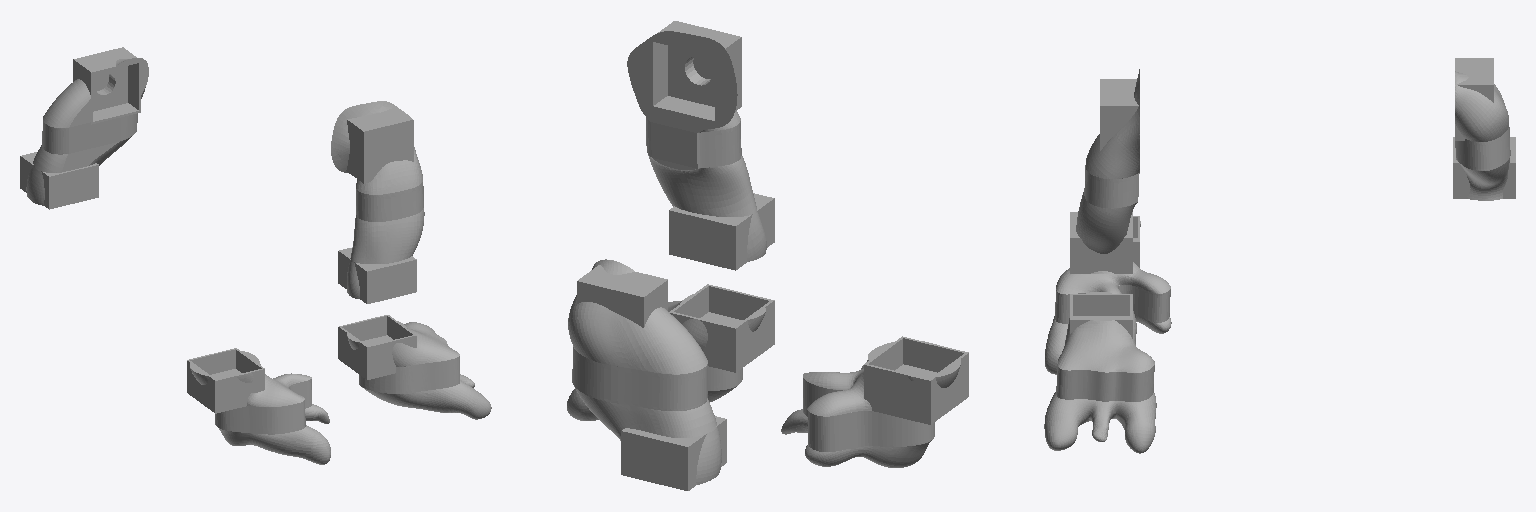
URDF robot description (FrogBot4_top-FrogBot4-x-5_bottom-FrogBot4-x-5):
<?xml version="1.0" ?>
<robot name="FrogBot4_top-FrogBot4-x-5_bottom-FrogBot4-x-5">

<material name="pla_5_percent_infill">
  <color rgba="0.700 0.700 0.700 1.000"/>
</material>

<link name="base_link">
  <inertial>
    <origin xyz="0 0 0" rpy="0 0 0"/>
    <mass value="1.4608203761339802"/>
    <inertia ixx="0.004960344011103216" iyy="0.010259632804669792" izz="0.010457868746855736" ixy="4.519338143052902e-05" iyz="5.808312742508464e-05" ixz="-0.0011937618975742643"/>
  </inertial>
  <visual>
    <origin xyz="0 0 0" rpy="0 0 0"/>
    <geometry>
      <mesh filename="simple_meshes/base_link.stl" scale="0.001 0.001 0.001"/>
    </geometry>
    <material name="pla_5_percent_infill"/>
  </visual>
  <collision>
    <origin xyz="0 0 0" rpy="0 0 0"/>
    <geometry>
      <mesh filename="simple_meshes/base_link.stl" scale="0.001 0.001 0.001"/>
    </geometry>
  </collision>
</link>

<link name="body_1_0_1">
  <inertial>
    <origin xyz="-0.039935 -0.102508 -0.020563" rpy="0 0 0"/>
    <mass value="0.0797575690457002"/>
    <inertia ixx="9.596908685615075e-05" iyy="0.00011091879741799903" izz="3.522125293106931e-05" ixy="9.601431572328037e-07" iyz="2.5762300177321396e-06" ixz="-1.4283803855344253e-05"/>
  </inertial>
  <visual>
    <origin xyz="-0.039935 -0.102508 -0.020563" rpy="0 0 0"/>
    <geometry>
      <mesh filename="simple_meshes/body_1_0_1.stl" scale="0.001 0.001 0.001"/>
    </geometry>
    <material name="pla_5_percent_infill"/>
  </visual>
  <collision>
    <origin xyz="-0.039935 -0.102508 -0.020563" rpy="0 0 0"/>
    <geometry>
      <mesh filename="simple_meshes/body_1_0_1.stl" scale="0.001 0.001 0.001"/>
    </geometry>
  </collision>
</link>

<link name="body_1_1_1">
  <inertial>
    <origin xyz="0.084829 -0.102508 0.010182" rpy="0 0 0"/>
    <mass value="0.09086982590961837"/>
    <inertia ixx="7.374602697779453e-05" iyy="0.00011966949240370243" izz="6.908560886746077e-05" ixy="-1.809481770038545e-06" iyz="1.4409274726226418e-06" ixz="-2.5080055862619513e-05"/>
  </inertial>
  <visual>
    <origin xyz="0.084829 -0.102508 0.010182" rpy="0 0 0"/>
    <geometry>
      <mesh filename="simple_meshes/body_1_1_1.stl" scale="0.001 0.001 0.001"/>
    </geometry>
    <material name="pla_5_percent_infill"/>
  </visual>
  <collision>
    <origin xyz="0.084829 -0.102508 0.010182" rpy="0 0 0"/>
    <geometry>
      <mesh filename="simple_meshes/body_1_1_1.stl" scale="0.001 0.001 0.001"/>
    </geometry>
  </collision>
</link>

<link name="body_1_2_1">
  <inertial>
    <origin xyz="-0.032973 0.102508 -0.03352" rpy="0 0 0"/>
    <mass value="0.08598380183621689"/>
    <inertia ixx="0.00011939814485395126" iyy="0.00013314867563339968" izz="3.85695146195126e-05" ixy="-2.5313666252345184e-06" iyz="-1.1852535218708458e-05" ixz="-1.213934499738814e-05"/>
  </inertial>
  <visual>
    <origin xyz="-0.032973 0.102508 -0.03352" rpy="0 0 0"/>
    <geometry>
      <mesh filename="simple_meshes/body_1_2_1.stl" scale="0.001 0.001 0.001"/>
    </geometry>
    <material name="pla_5_percent_infill"/>
  </visual>
  <collision>
    <origin xyz="-0.032973 0.102508 -0.03352" rpy="0 0 0"/>
    <geometry>
      <mesh filename="simple_meshes/body_1_2_1.stl" scale="0.001 0.001 0.001"/>
    </geometry>
  </collision>
</link>

<link name="body_1_3_1">
  <inertial>
    <origin xyz="0.075405 0.102508 -0.000907" rpy="0 0 0"/>
    <mass value="0.0967763922690638"/>
    <inertia ixx="8.135179800362923e-05" iyy="0.00012828418050823292" izz="7.223065863361851e-05" ixy="2.1558488701709823e-07" iyz="-1.4791244760987304e-06" ixz="-2.498597966897739e-05"/>
  </inertial>
  <visual>
    <origin xyz="0.075405 0.102508 -0.000907" rpy="0 0 0"/>
    <geometry>
      <mesh filename="simple_meshes/body_1_3_1.stl" scale="0.001 0.001 0.001"/>
    </geometry>
    <material name="pla_5_percent_infill"/>
  </visual>
  <collision>
    <origin xyz="0.075405 0.102508 -0.000907" rpy="0 0 0"/>
    <geometry>
      <mesh filename="simple_meshes/body_1_3_1.stl" scale="0.001 0.001 0.001"/>
    </geometry>
  </collision>
</link>

<link name="body_2_0_1">
  <inertial>
    <origin xyz="-0.025656 -0.145015 0.110436" rpy="0 0 0"/>
    <mass value="0.09993784779433719"/>
    <inertia ixx="7.343545432933214e-05" iyy="9.46708259906429e-05" izz="0.00010223000765041809" ixy="-4.971902130602741e-07" iyz="8.242547604986848e-07" ixz="2.1220454857030693e-05"/>
  </inertial>
  <visual>
    <origin xyz="-0.025656 -0.145015 0.110436" rpy="0 0 0"/>
    <geometry>
      <mesh filename="simple_meshes/body_2_0_1.stl" scale="0.001 0.001 0.001"/>
    </geometry>
    <material name="pla_5_percent_infill"/>
  </visual>
  <collision>
    <origin xyz="-0.025656 -0.145015 0.110436" rpy="0 0 0"/>
    <geometry>
      <mesh filename="simple_meshes/body_2_0_1.stl" scale="0.001 0.001 0.001"/>
    </geometry>
  </collision>
</link>

<link name="body_2_1_1">
  <inertial>
    <origin xyz="0.114857 -0.145661 0.110438" rpy="0 0 0"/>
    <mass value="0.08581514200507374"/>
    <inertia ixx="5.2937503998195905e-05" iyy="8.568402331422201e-05" izz="7.328120701207341e-05" ixy="-3.690929836665984e-06" iyz="5.026785037510247e-06" ixz="2.2002568851585544e-05"/>
  </inertial>
  <visual>
    <origin xyz="0.114857 -0.145661 0.110438" rpy="0 0 0"/>
    <geometry>
      <mesh filename="simple_meshes/body_2_1_1.stl" scale="0.001 0.001 0.001"/>
    </geometry>
    <material name="pla_5_percent_infill"/>
  </visual>
  <collision>
    <origin xyz="0.114857 -0.145661 0.110438" rpy="0 0 0"/>
    <geometry>
      <mesh filename="simple_meshes/body_2_1_1.stl" scale="0.001 0.001 0.001"/>
    </geometry>
  </collision>
</link>

<link name="body_2_2_1">
  <inertial>
    <origin xyz="-0.022601 0.152053 0.110436" rpy="0 0 0"/>
    <mass value="0.1086195022886029"/>
    <inertia ixx="7.921089844994088e-05" iyy="0.0001038005271223226" izz="0.00010988599131268265" ixy="-2.922128324624293e-06" iyz="-6.077753158975456e-07" ixz="2.3352375004814883e-05"/>
  </inertial>
  <visual>
    <origin xyz="-0.022601 0.152053 0.110436" rpy="0 0 0"/>
    <geometry>
      <mesh filename="simple_meshes/body_2_2_1.stl" scale="0.001 0.001 0.001"/>
    </geometry>
    <material name="pla_5_percent_infill"/>
  </visual>
  <collision>
    <origin xyz="-0.022601 0.152053 0.110436" rpy="0 0 0"/>
    <geometry>
      <mesh filename="simple_meshes/body_2_2_1.stl" scale="0.001 0.001 0.001"/>
    </geometry>
  </collision>
</link>

<link name="body_2_3_1">
  <inertial>
    <origin xyz="0.12145 0.146005 0.110436" rpy="0 0 0"/>
    <mass value="0.08886401518465152"/>
    <inertia ixx="6.726090625574967e-05" iyy="7.547460987963493e-05" izz="8.525531727069605e-05" ixy="6.368873074878104e-06" iyz="-8.898108197705808e-06" ixz="1.5173487437103103e-05"/>
  </inertial>
  <visual>
    <origin xyz="0.12145 0.146005 0.110436" rpy="0 0 0"/>
    <geometry>
      <mesh filename="simple_meshes/body_2_3_1.stl" scale="0.001 0.001 0.001"/>
    </geometry>
    <material name="pla_5_percent_infill"/>
  </visual>
  <collision>
    <origin xyz="0.12145 0.146005 0.110436" rpy="0 0 0"/>
    <geometry>
      <mesh filename="simple_meshes/body_2_3_1.stl" scale="0.001 0.001 0.001"/>
    </geometry>
  </collision>
</link>

<joint name="joint_1_0" type="revolute">
  <origin xyz="0.039935 0.102508 0.020563" rpy="0 0 0"/>
  <parent link="base_link"/>
  <child link="body_1_0_1"/>
  <axis xyz="1.0 0.0 0.0"/>
  <limit upper="1.2" lower="-1.2" effort="3.8" velocity="5.4"/>
</joint>
<transmission name="joint_1_0_tran">
  <type>transmission_interface/SimpleTransmission</type>
  <joint name="joint_1_0">
    <hardwareInterface>PositionJointInterface</hardwareInterface>
  </joint>
  <actuator name="joint_1_0_actr">
    <hardwareInterface>PositionJointInterface</hardwareInterface>
    <mechanicalReduction>1</mechanicalReduction>
  </actuator>
</transmission>

<joint name="joint_1_1" type="revolute">
  <origin xyz="-0.084829 0.102508 -0.010182" rpy="0 0 0"/>
  <parent link="base_link"/>
  <child link="body_1_1_1"/>
  <axis xyz="1.0 0.0 0.0"/>
  <limit upper="1.2" lower="-1.2" effort="3.8" velocity="5.4"/>
</joint>
<transmission name="joint_1_1_tran">
  <type>transmission_interface/SimpleTransmission</type>
  <joint name="joint_1_1">
    <hardwareInterface>PositionJointInterface</hardwareInterface>
  </joint>
  <actuator name="joint_1_1_actr">
    <hardwareInterface>PositionJointInterface</hardwareInterface>
    <mechanicalReduction>1</mechanicalReduction>
  </actuator>
</transmission>

<joint name="joint_1_2" type="revolute">
  <origin xyz="0.032973 -0.102508 0.03352" rpy="0 0 0"/>
  <parent link="base_link"/>
  <child link="body_1_2_1"/>
  <axis xyz="1.0 0.0 0.0"/>
  <limit upper="1.2" lower="-1.2" effort="3.8" velocity="5.4"/>
</joint>
<transmission name="joint_1_2_tran">
  <type>transmission_interface/SimpleTransmission</type>
  <joint name="joint_1_2">
    <hardwareInterface>PositionJointInterface</hardwareInterface>
  </joint>
  <actuator name="joint_1_2_actr">
    <hardwareInterface>PositionJointInterface</hardwareInterface>
    <mechanicalReduction>1</mechanicalReduction>
  </actuator>
</transmission>

<joint name="joint_1_3" type="revolute">
  <origin xyz="-0.075405 -0.102508 0.000907" rpy="0 0 0"/>
  <parent link="base_link"/>
  <child link="body_1_3_1"/>
  <axis xyz="1.0 0.0 0.0"/>
  <limit upper="1.2" lower="-1.2" effort="3.8" velocity="5.4"/>
</joint>
<transmission name="joint_1_3_tran">
  <type>transmission_interface/SimpleTransmission</type>
  <joint name="joint_1_3">
    <hardwareInterface>PositionJointInterface</hardwareInterface>
  </joint>
  <actuator name="joint_1_3_actr">
    <hardwareInterface>PositionJointInterface</hardwareInterface>
    <mechanicalReduction>1</mechanicalReduction>
  </actuator>
</transmission>

<joint name="joint_2_0" type="revolute">
  <origin xyz="-0.014279 0.042507 -0.130999" rpy="0 0 0"/>
  <parent link="body_1_0_1"/>
  <child link="body_2_0_1"/>
  <axis xyz="1.0 0.0 0.0"/>
  <limit upper="1.2" lower="-1.2" effort="3.8" velocity="5.4"/>
</joint>
<transmission name="joint_2_0_tran">
  <type>transmission_interface/SimpleTransmission</type>
  <joint name="joint_2_0">
    <hardwareInterface>PositionJointInterface</hardwareInterface>
  </joint>
  <actuator name="joint_2_0_actr">
    <hardwareInterface>PositionJointInterface</hardwareInterface>
    <mechanicalReduction>1</mechanicalReduction>
  </actuator>
</transmission>

<joint name="joint_2_1" type="revolute">
  <origin xyz="-0.030028 0.043153 -0.100256" rpy="0 0 0"/>
  <parent link="body_1_1_1"/>
  <child link="body_2_1_1"/>
  <axis xyz="1.0 0.0 0.0"/>
  <limit upper="1.2" lower="-1.2" effort="3.8" velocity="5.4"/>
</joint>
<transmission name="joint_2_1_tran">
  <type>transmission_interface/SimpleTransmission</type>
  <joint name="joint_2_1">
    <hardwareInterface>PositionJointInterface</hardwareInterface>
  </joint>
  <actuator name="joint_2_1_actr">
    <hardwareInterface>PositionJointInterface</hardwareInterface>
    <mechanicalReduction>1</mechanicalReduction>
  </actuator>
</transmission>

<joint name="joint_2_2" type="revolute">
  <origin xyz="-0.010372 -0.049545 -0.143956" rpy="0 0 0"/>
  <parent link="body_1_2_1"/>
  <child link="body_2_2_1"/>
  <axis xyz="1.0 0.0 0.0"/>
  <limit upper="1.2" lower="-1.2" effort="3.8" velocity="5.4"/>
</joint>
<transmission name="joint_2_2_tran">
  <type>transmission_interface/SimpleTransmission</type>
  <joint name="joint_2_2">
    <hardwareInterface>PositionJointInterface</hardwareInterface>
  </joint>
  <actuator name="joint_2_2_actr">
    <hardwareInterface>PositionJointInterface</hardwareInterface>
    <mechanicalReduction>1</mechanicalReduction>
  </actuator>
</transmission>

<joint name="joint_2_3" type="revolute">
  <origin xyz="-0.046045 -0.043497 -0.111343" rpy="0 0 0"/>
  <parent link="body_1_3_1"/>
  <child link="body_2_3_1"/>
  <axis xyz="1.0 0.0 0.0"/>
  <limit upper="1.2" lower="-1.2" effort="3.8" velocity="5.4"/>
</joint>
<transmission name="joint_2_3_tran">
  <type>transmission_interface/SimpleTransmission</type>
  <joint name="joint_2_3">
    <hardwareInterface>PositionJointInterface</hardwareInterface>
  </joint>
  <actuator name="joint_2_3_actr">
    <hardwareInterface>PositionJointInterface</hardwareInterface>
    <mechanicalReduction>1</mechanicalReduction>
  </actuator>
</transmission>

</robot>

--- Render facts (derived) ---
Views: 3 orthographic renders of the robot side by side, from view 1: azimuth 30°, elevation 25°; view 2: azimuth 150°, elevation 25°; view 3: azimuth 270°, elevation 25°.
Robot: FrogBot4_top-FrogBot4-x-5_bottom-FrogBot4-x-5 — 9 links, 8 joints (8 revolute); root link base_link; default pose: every joint at zero.
Visible links, largest first — view 1: body_1_2_1, body_1_1_1, body_2_3_1, body_2_2_1; view 2: body_1_1_1, body_1_2_1, body_2_3_1, body_2_2_1; view 3: body_2_2_1, body_1_2_1, body_1_1_1, body_2_3_1.
Link boxes in pixels (bbox=[...]): body_1_2_1: bbox=[331, 101, 424, 303]; body_1_1_1: bbox=[20, 47, 148, 209]; body_2_3_1: bbox=[187, 348, 330, 464]; body_2_2_1: bbox=[338, 315, 491, 419]; body_1_1_1: bbox=[568, 259, 726, 490]; body_1_2_1: bbox=[627, 21, 774, 270]; body_2_3_1: bbox=[781, 336, 968, 467]; body_2_2_1: bbox=[567, 284, 774, 420]; body_2_2_1: bbox=[1044, 292, 1156, 453]; body_1_2_1: bbox=[1070, 69, 1139, 273]; body_1_1_1: bbox=[1453, 58, 1515, 200]; body_2_3_1: bbox=[1045, 216, 1171, 374].
Bounding box of the posed robot: 0.2681 × 0.3663 × 0.2908 m (x, y, z).
4 mesh visuals loaded from 9 distinct referenced files (4 binary STL); not drawn: 5 (reference not matched to a file when rendering).